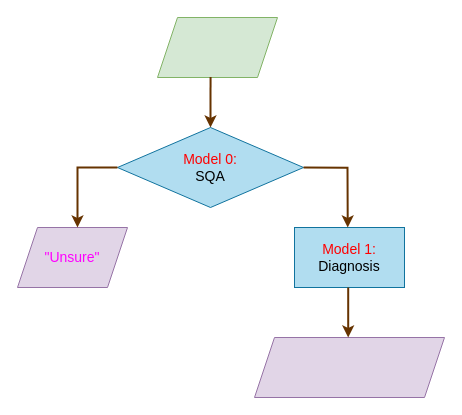
Some shapes in this 462 by 415 pixel diagram are drawn without their labels. The shapes that lost their labels are listed below. From the top down, each one's centre as x and y in pixels, then its label:
[217,47]: Input: .wav
[349,367]: "Normal" or "Abnormal"
